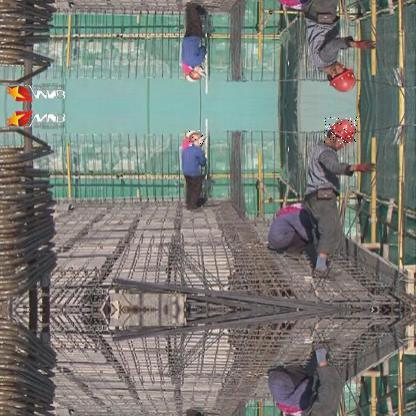safetyhelmet: (324, 118, 359, 146), (186, 130, 208, 148)
